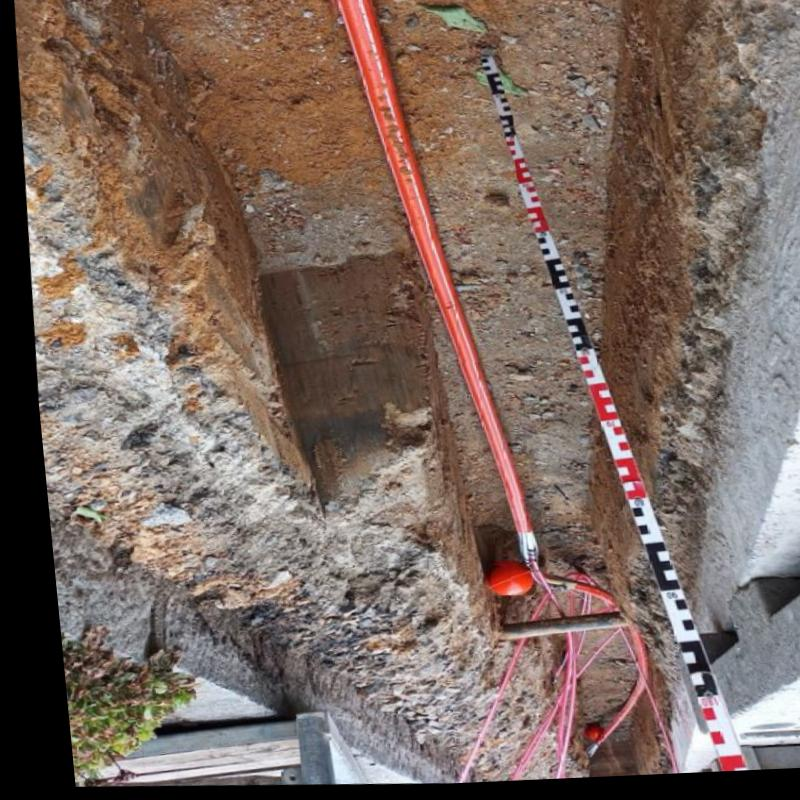Kugelmarker: (475, 566, 520, 599), (571, 729, 587, 744)
Orang-Speednetrohrchen: (336, 0, 527, 570)
